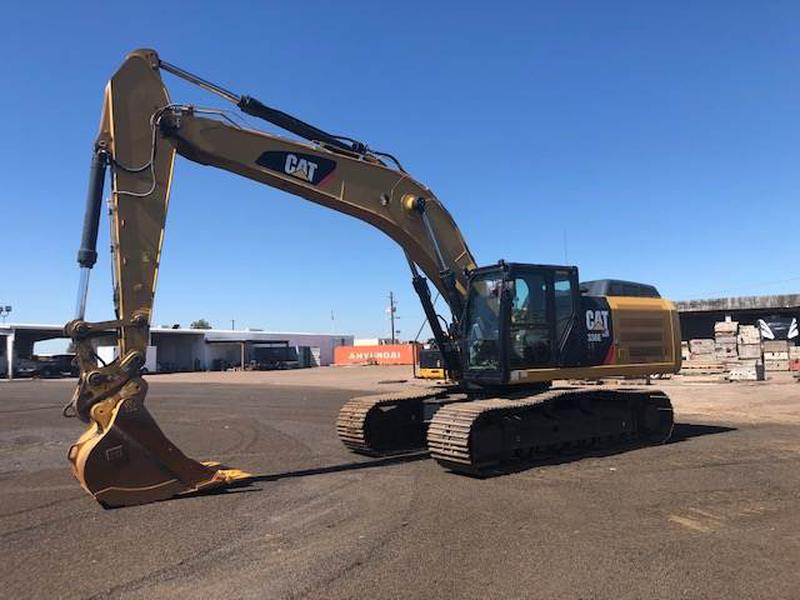shovel: (64, 36, 688, 512)
